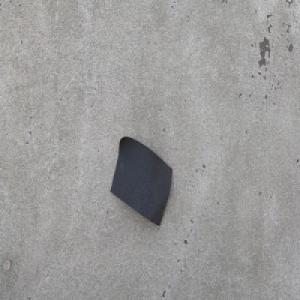PaintChip: (109, 134, 174, 228)
